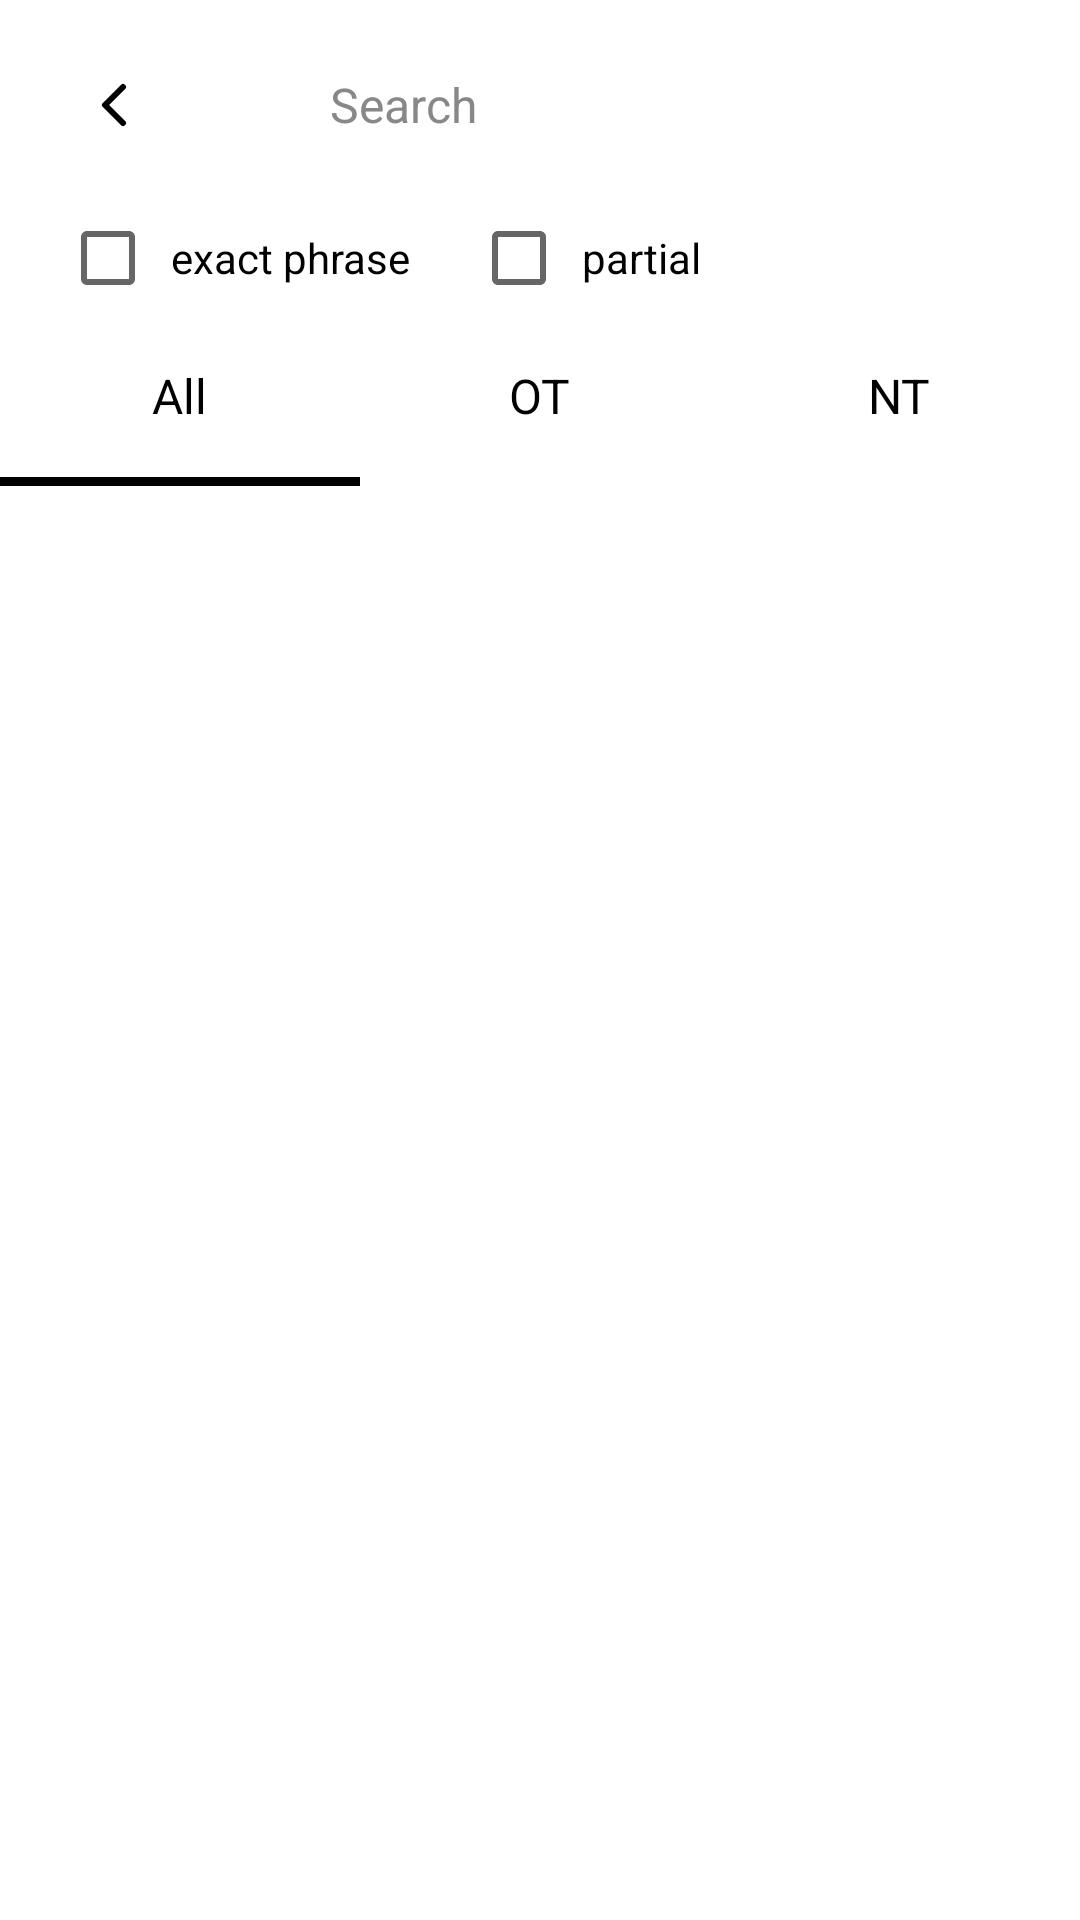

Locate icon controls on the screen. Image size 1080*1920, boxes as (x1, y1, x2, y2).
back toolbar: (102, 84, 126, 126)
